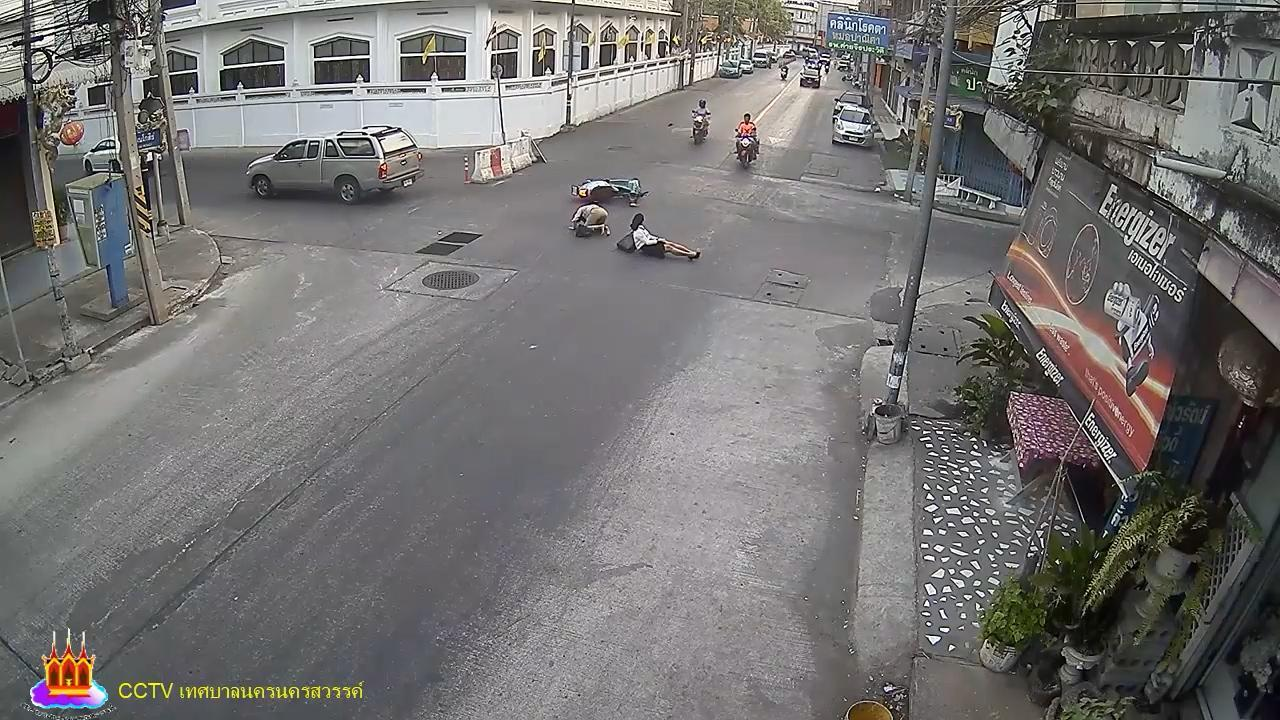accident: (623, 211, 705, 262), (564, 202, 614, 238)
